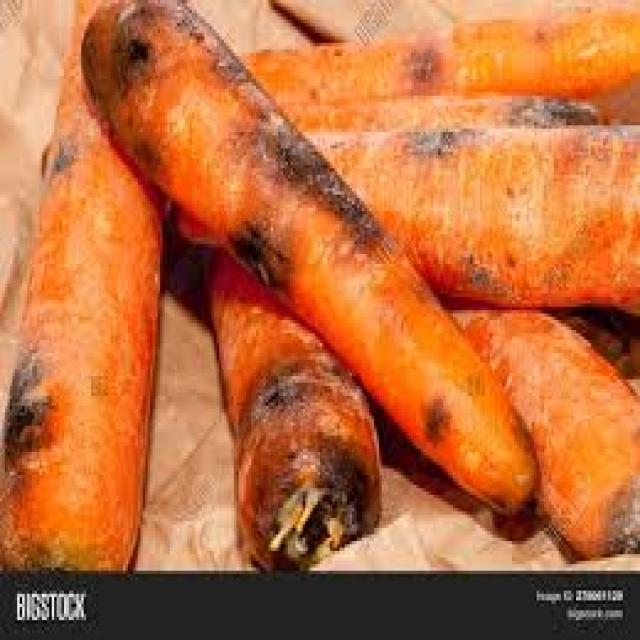food_waste: (0, 0, 638, 561)
